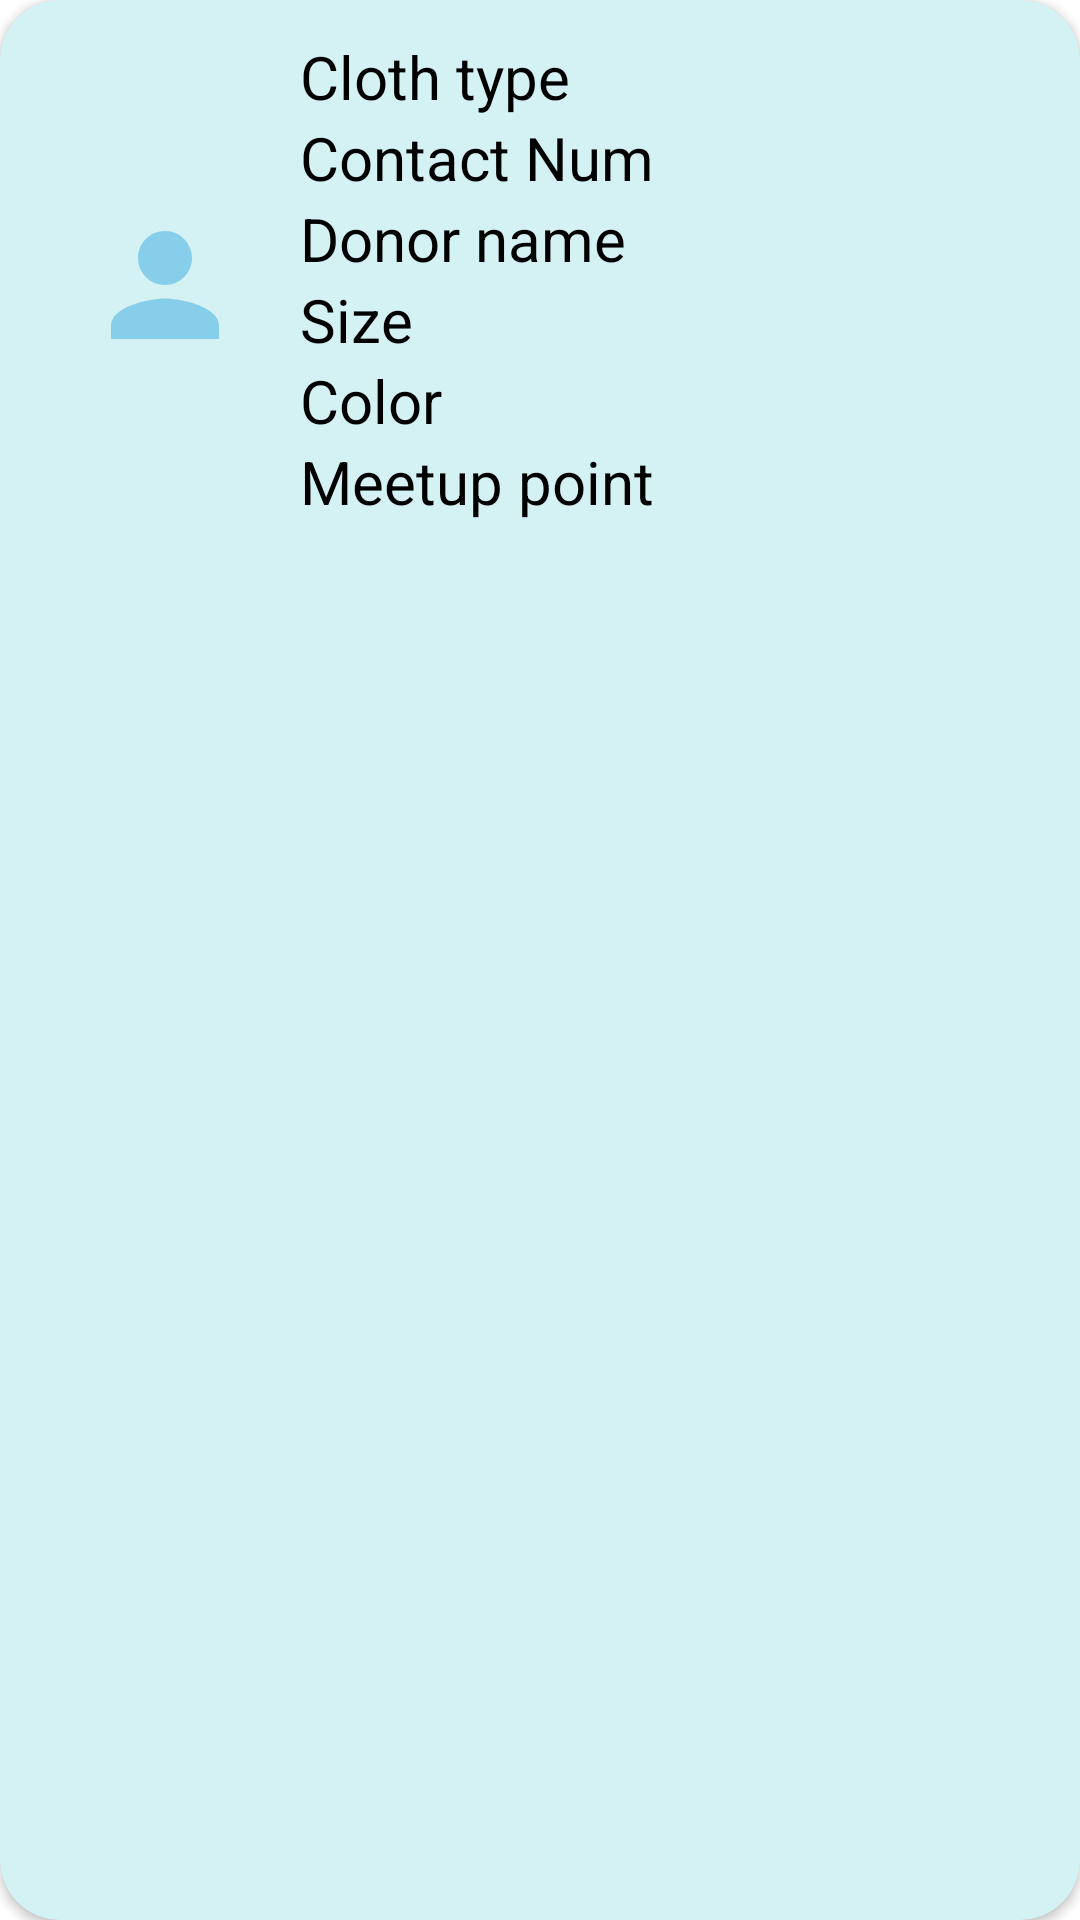

Locate icon controls on the screen. Image size 1080 × 1920, boxes as [x1,y1,x2,y2].
person: [111,231,219,339]
